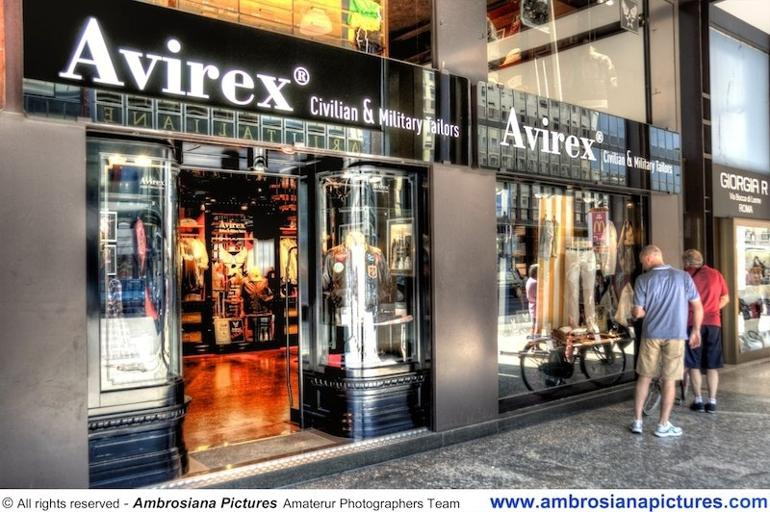non-vehicle: (517, 329, 627, 396), (642, 365, 689, 416)
